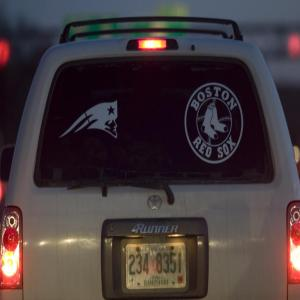Vehicle-registration-plate: (122, 239, 191, 297)
